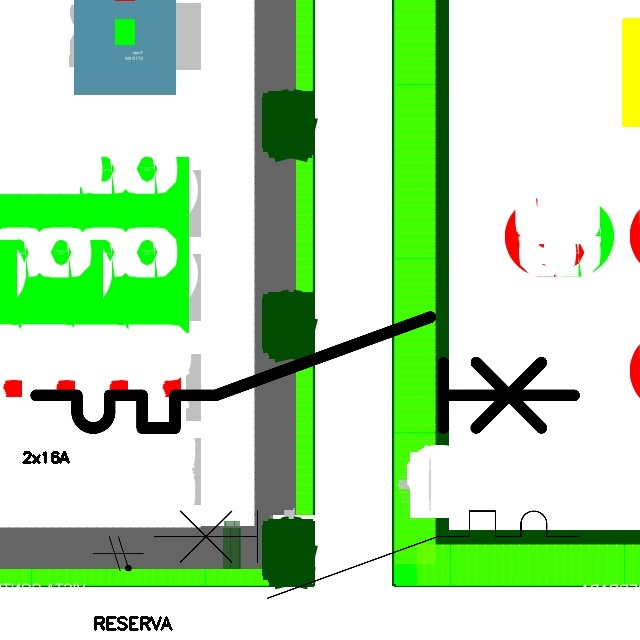interruptor_termomagnetico: (22, 303, 588, 442), (143, 500, 590, 609)
